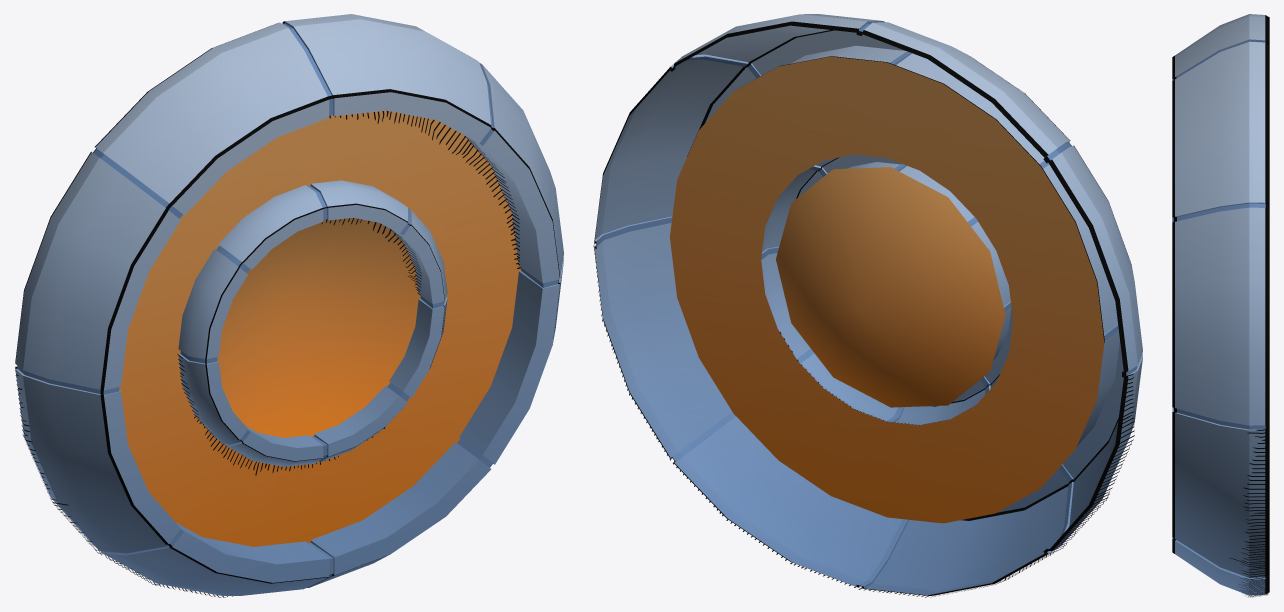
The model's file is SciFi_Wall_Circle.glb.
The picture shows the model from 3 angles, left to right: view 1: azimuth 30°, elevation 25°; view 2: azimuth 150°, elevation 25°; view 3: azimuth 270°, elevation 25°; orthographic projection. The views are drawn at different scales.
Visible parts, largest first — view 1: SciFi_Wall_Circle; view 2: SciFi_Wall_Circle; view 3: SciFi_Wall_Circle.
Boxes of the visible parts, box(x1,y1,x2,y2) form: SciFi_Wall_Circle: box(15, 14, 563, 597); SciFi_Wall_Circle: box(593, 14, 1142, 597); SciFi_Wall_Circle: box(1172, 14, 1269, 597).
Size of the model in its own units: 1.82 by 1.81 by 0.3025.
Materials: 2 (2 with a texture image).
